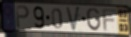0: (51, 8, 64, 30)
9: (33, 6, 45, 30)
F: (101, 8, 117, 32)
G: (86, 7, 102, 32)
P: (15, 4, 31, 30)
V: (65, 6, 81, 33)
